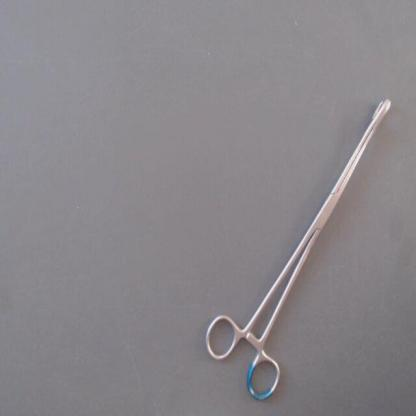Sponge Forceps: (199, 78, 402, 407)
